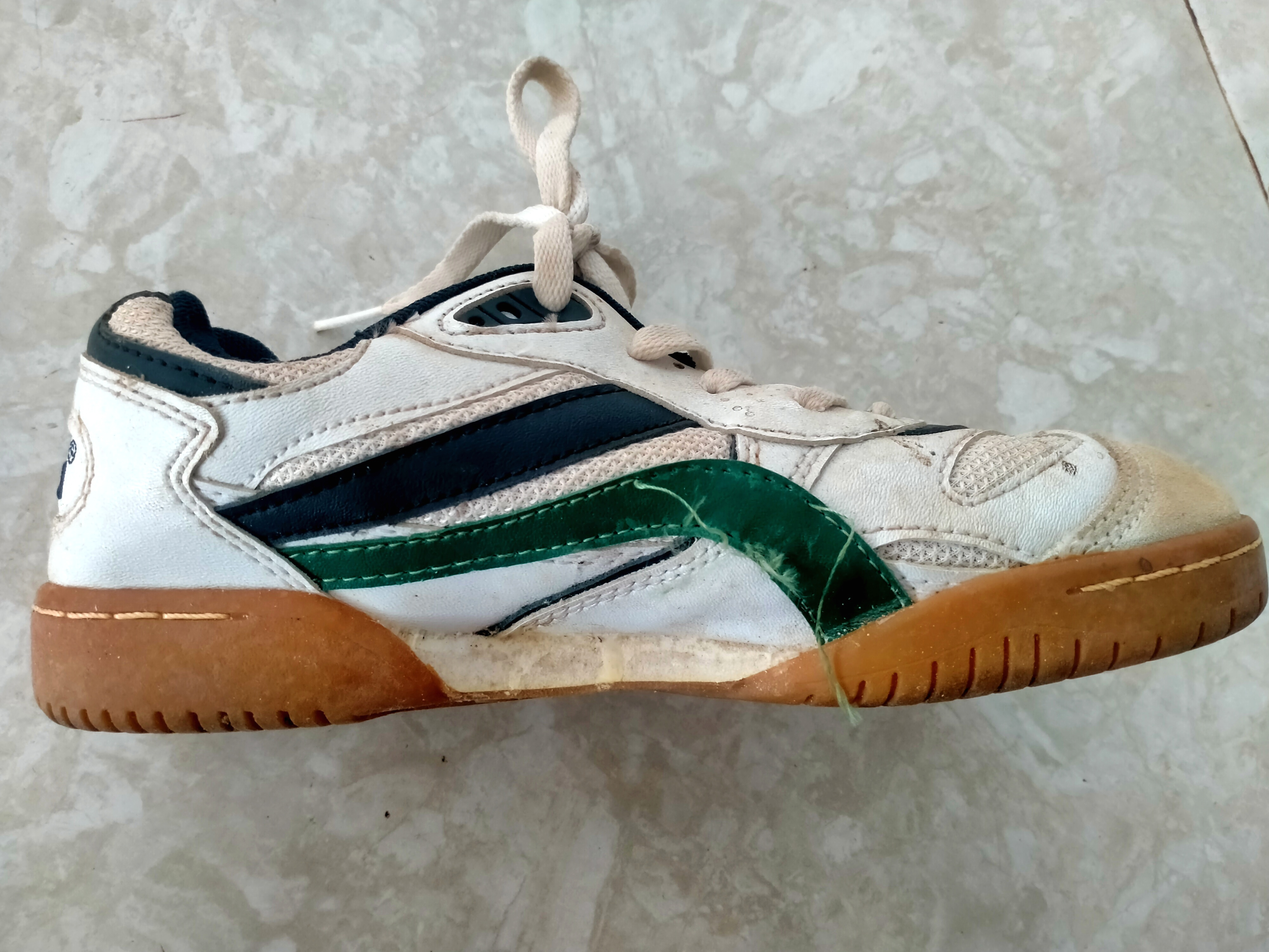broken: (636, 450, 837, 515), (668, 508, 783, 577)
